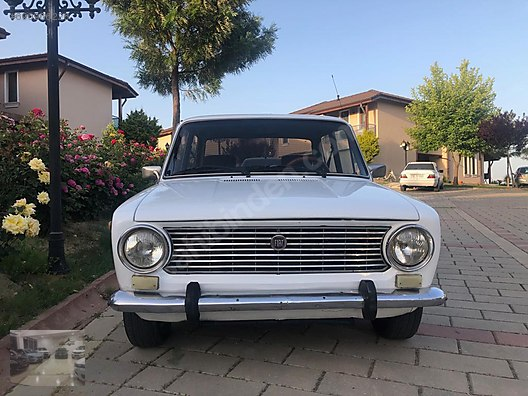murat: (101, 101, 456, 353)
